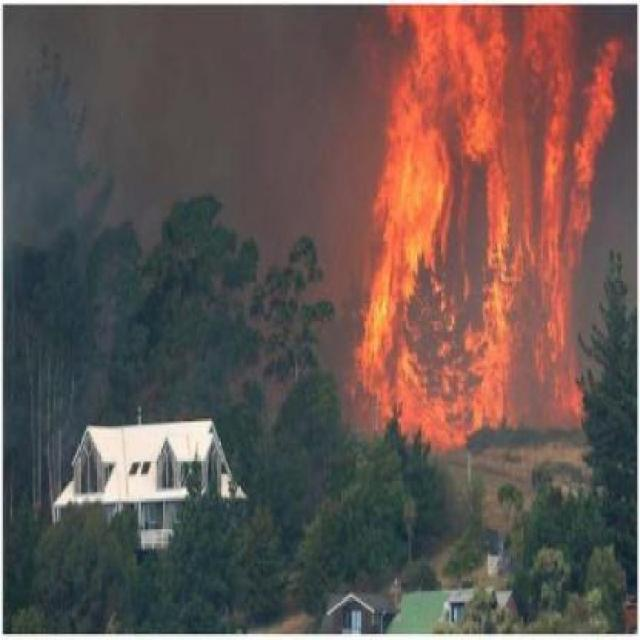Fire: (365, 0, 622, 440)
Smoke: (6, 9, 367, 340)
